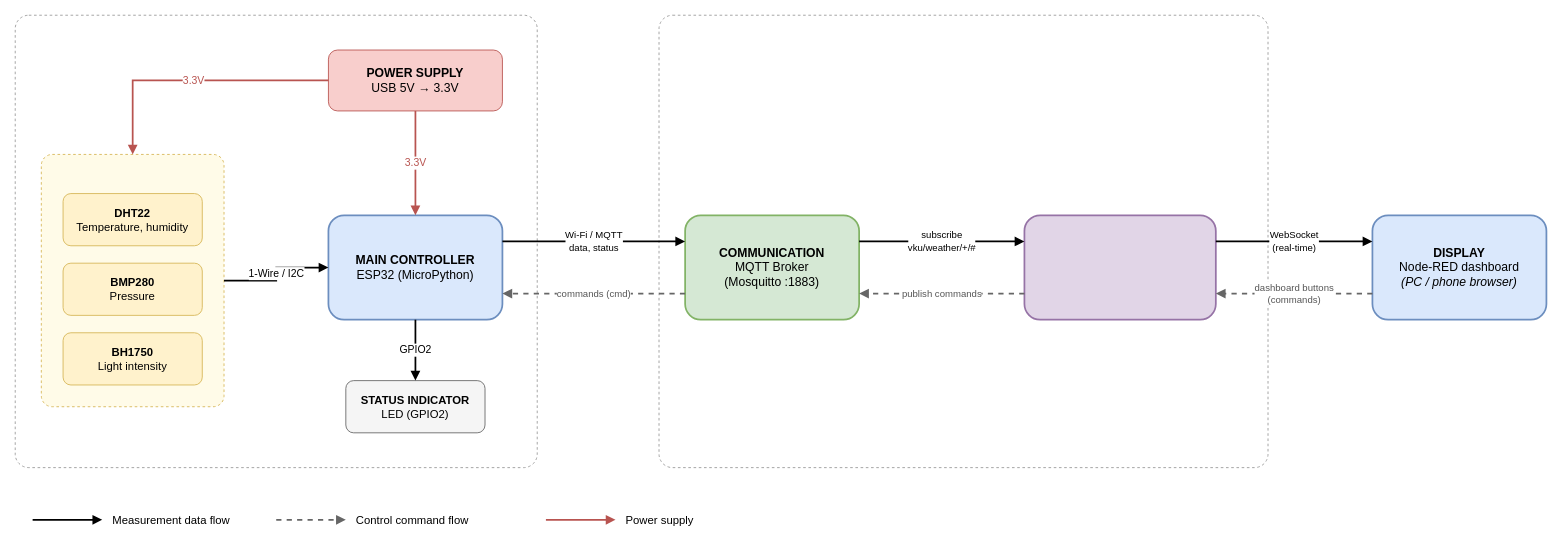
This 1563x548 diagram has some shape labels left out. Each missing label, with the box of its shape:
COMPUTER: (658, 14, 1268, 468)
PROCESSING Node-RED :1880 flow, threshold alerts: (1023, 214, 1216, 320)
SENSOR BLOCK: (40, 154, 224, 407)
SENSOR NODE (hardware): (14, 14, 537, 468)
